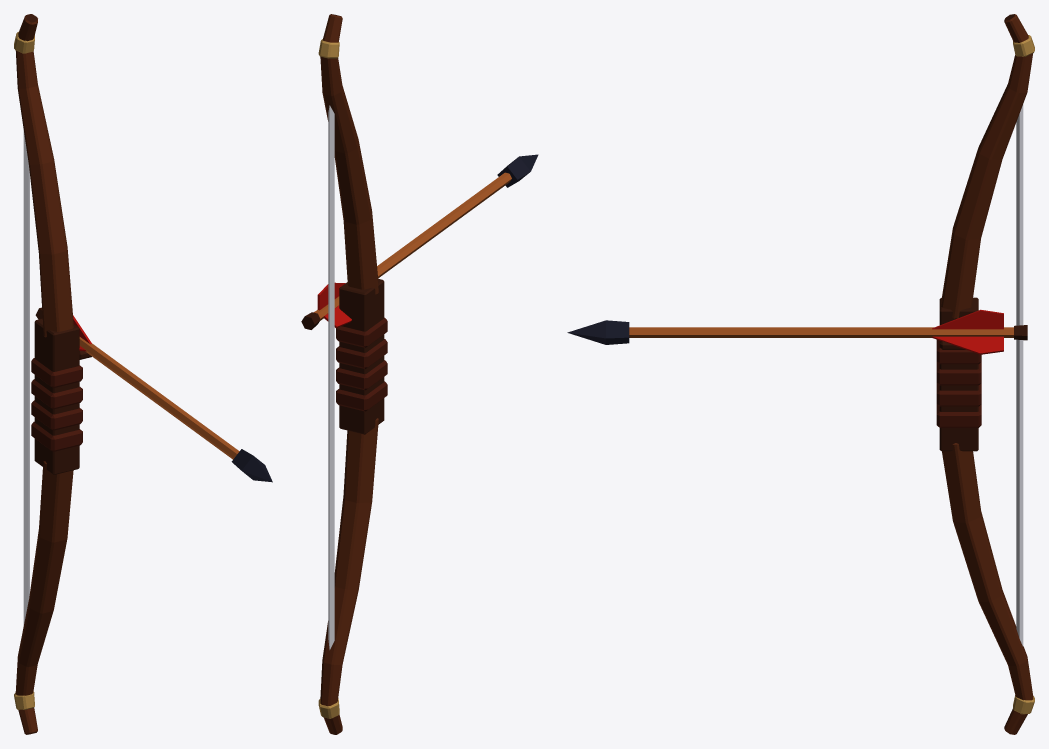
Rendered from myw_bow.obj.
The picture shows the model from 3 angles, left to right: view 1: azimuth 30°, elevation 25°; view 2: azimuth 150°, elevation 25°; view 3: azimuth 270°, elevation 25°; orthographic projection.
Parts seen in each view (by area): view 1: Bow, Grip, Arrow, String_Bottom, String_Top, TipWraps; view 2: Bow, Arrow, Grip, String_Bottom, String_Top, TipWraps; view 3: Bow, Arrow, Grip, String_Bottom, String_Top.
Part boxes in pixels (x1,y1,x2,y2): Bow: (15, 14, 79, 734); Grip: (31, 351, 91, 451); Arrow: (35, 307, 272, 482); String_Bottom: (23, 320, 29, 625); String_Top: (23, 130, 29, 322); TipWraps: (14, 31, 34, 709); Bow: (320, 14, 384, 734); Arrow: (301, 154, 538, 329); Grip: (336, 317, 387, 411); String_Bottom: (328, 325, 334, 649); String_Top: (328, 105, 334, 326); TipWraps: (318, 39, 339, 718); Bow: (939, 14, 1033, 734); Arrow: (567, 309, 1027, 354); Grip: (936, 340, 981, 427); String_Bottom: (1016, 323, 1023, 646); String_Top: (1016, 104, 1023, 324).
Size of the model in its own units: 0.3226 by 4.06 by 2.4.
